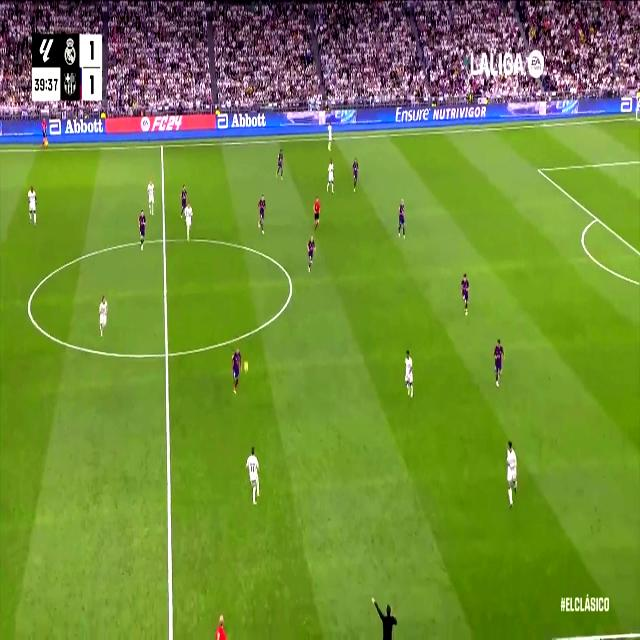bigarea_top_inner: (534, 162, 542, 177)
corner: (632, 113, 640, 123)
halfcircle_bottom: (161, 340, 173, 367)
halfcircle_top: (158, 228, 170, 250)
midline_top_intersection: (158, 139, 166, 153)
top_arc_area_intersection: (593, 210, 601, 226)
